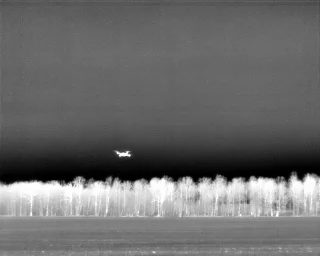DRONE: (111, 146, 136, 162)
